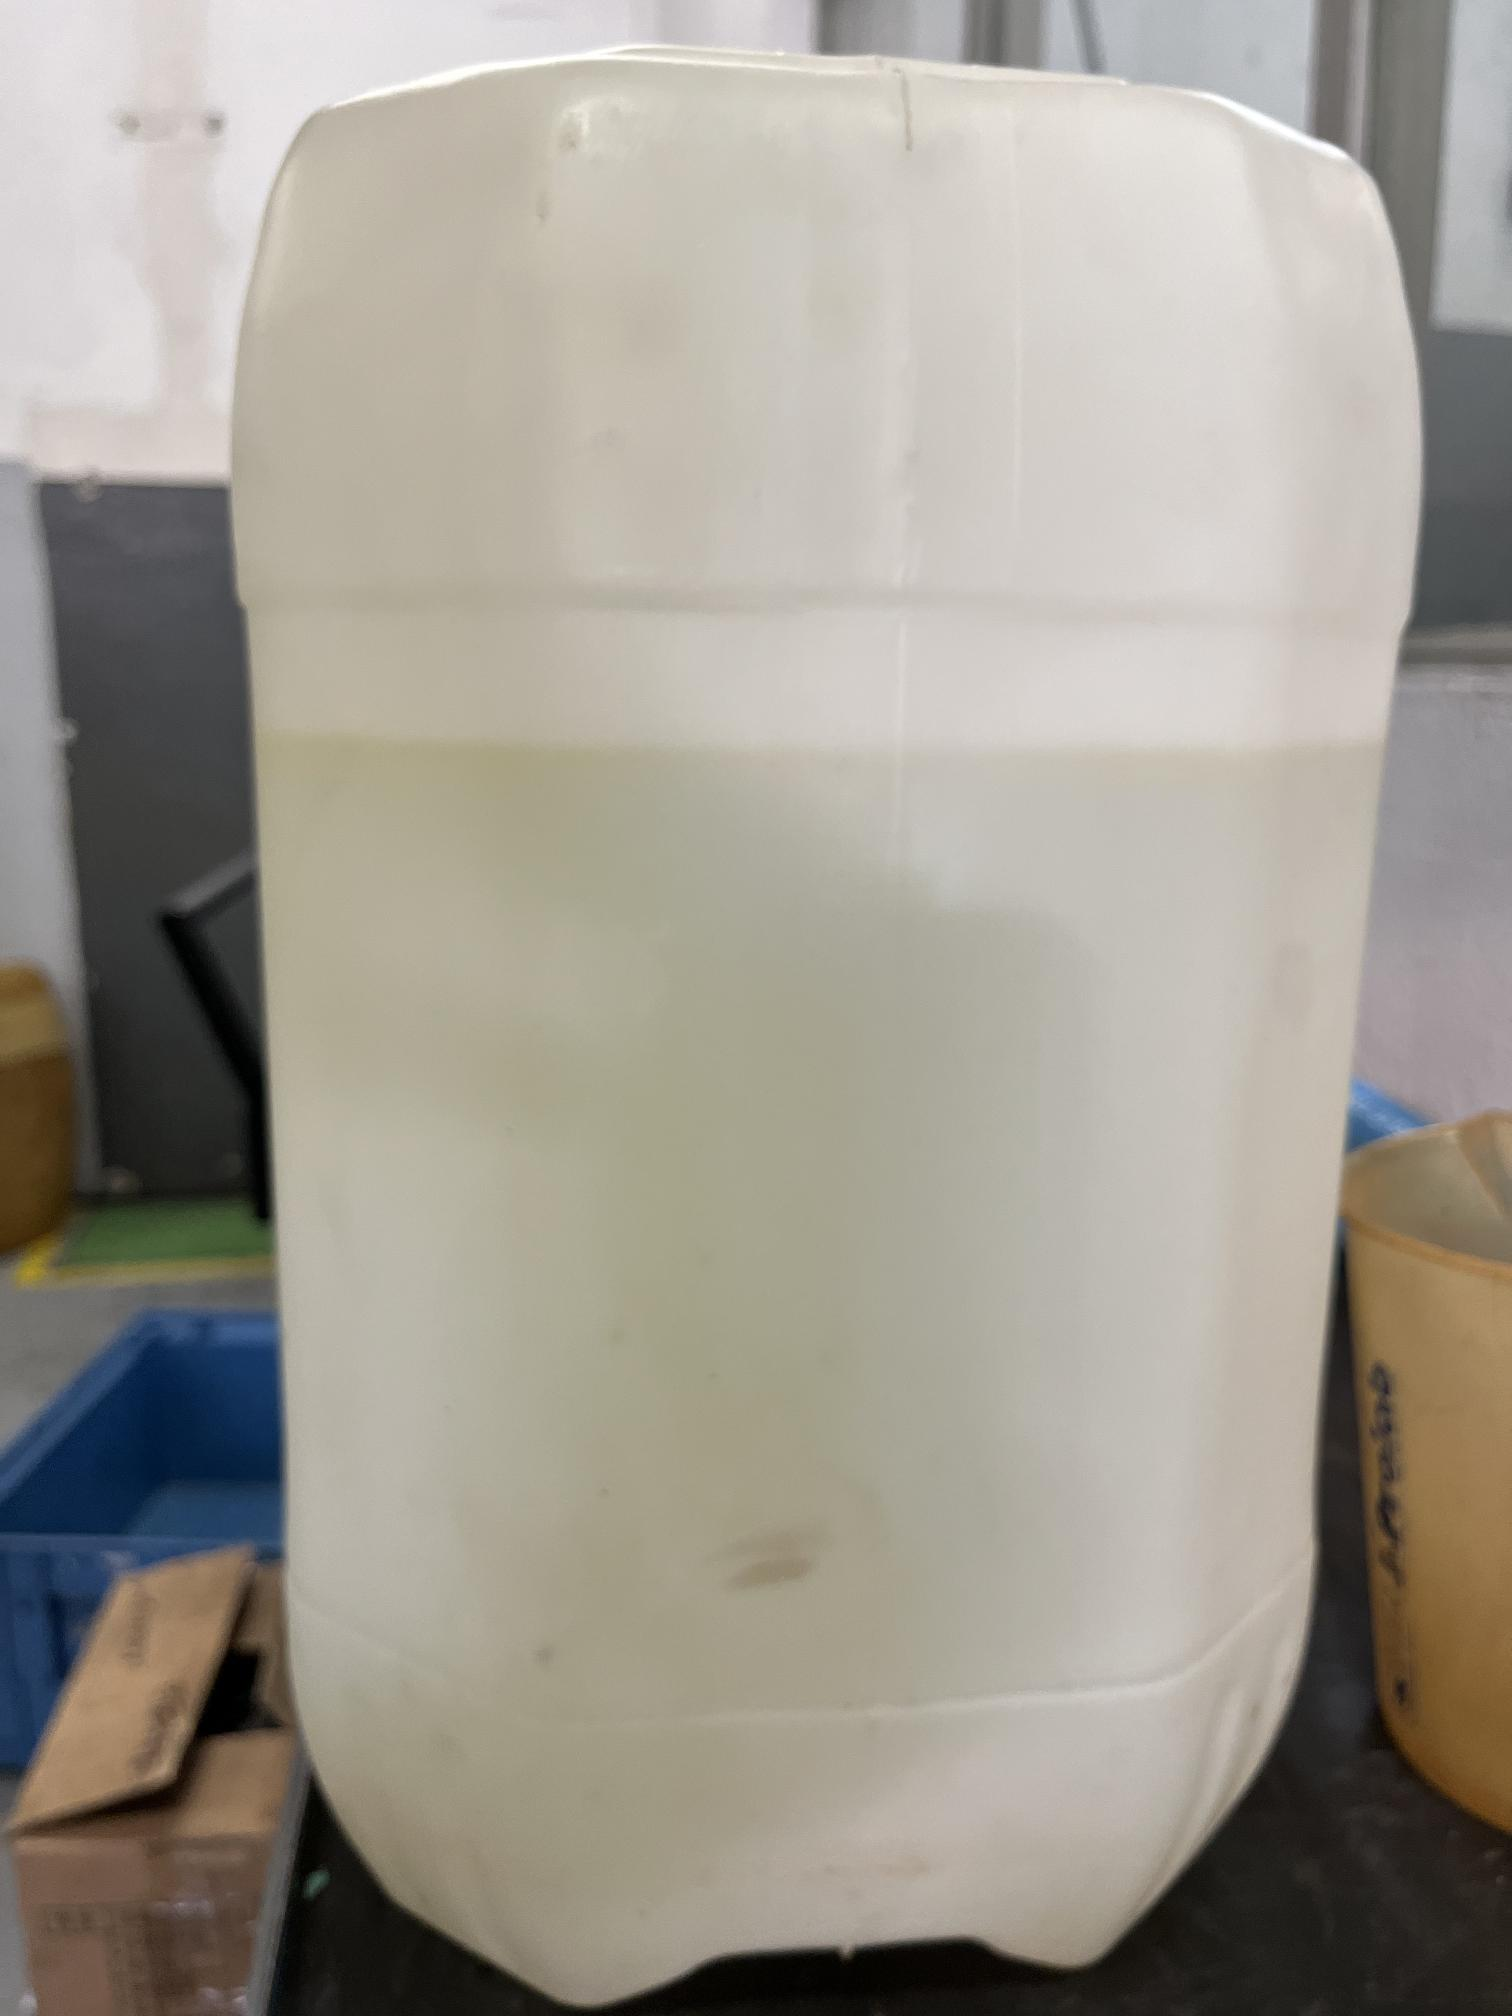Galao: (175, 65, 1450, 1960)
